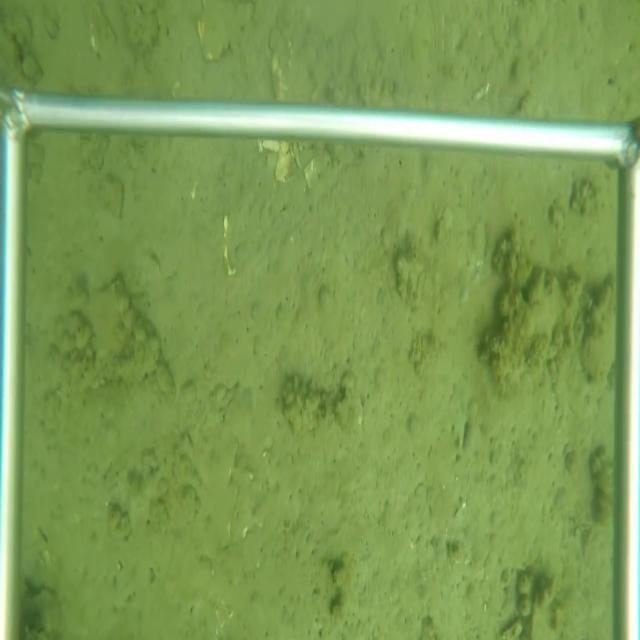Oyster-Indeterminate: (579, 273, 618, 382)
